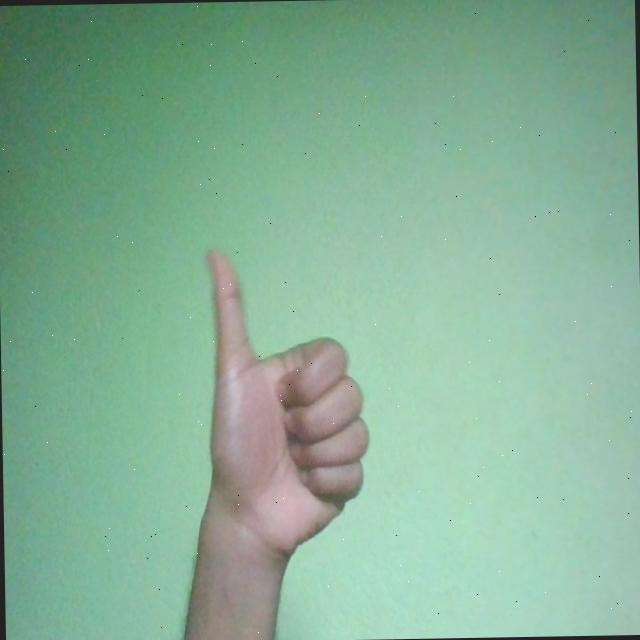Good Job: (204, 244, 374, 564)
